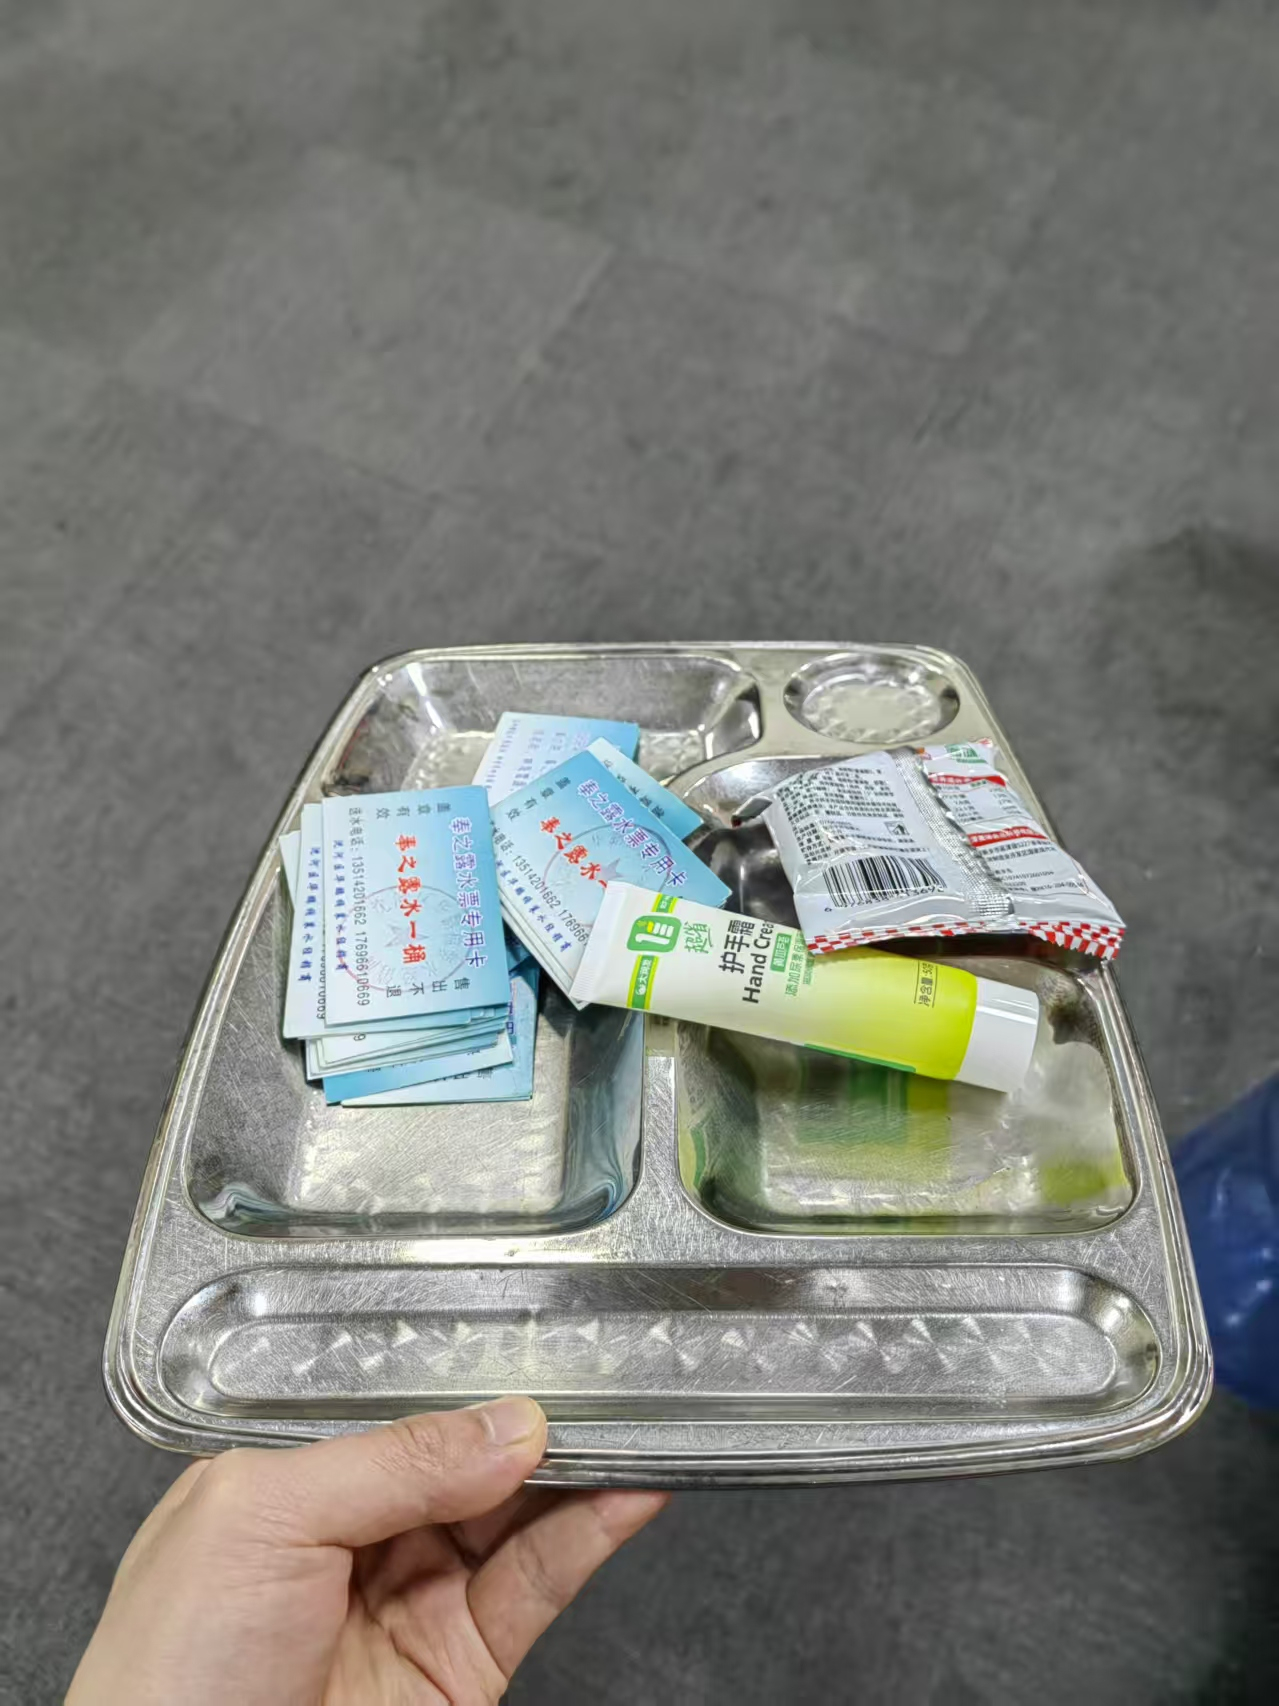moderate: (272, 706, 1134, 1103)
plate: (98, 636, 1218, 1493)
